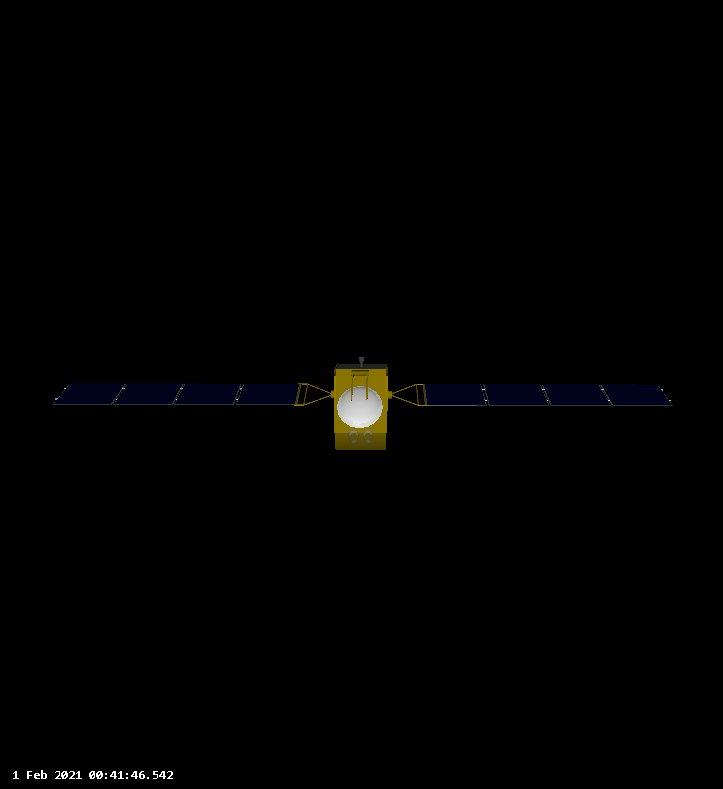antenna: (336, 385, 385, 431)
body: (332, 362, 390, 453)
solar: (421, 381, 676, 408), (50, 381, 302, 407)
thruster: (357, 354, 366, 367)
